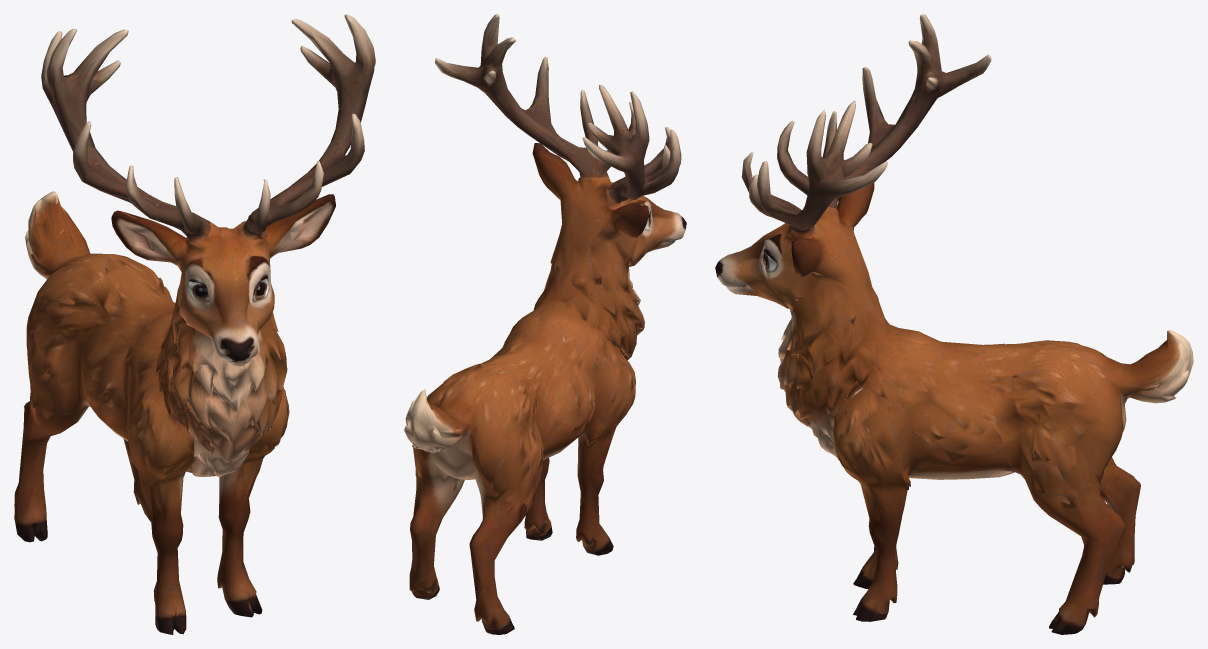
File: stag.glb
The picture shows the model from 3 angles, left to right: view 1: azimuth 30°, elevation 25°; view 2: azimuth 150°, elevation 25°; view 3: azimuth 270°, elevation 25°; orthographic projection. The views are drawn at different scales.
Size of the model in its own units: 0.9771 by 1.9 by 1.53.
1 material, 1 textured.
